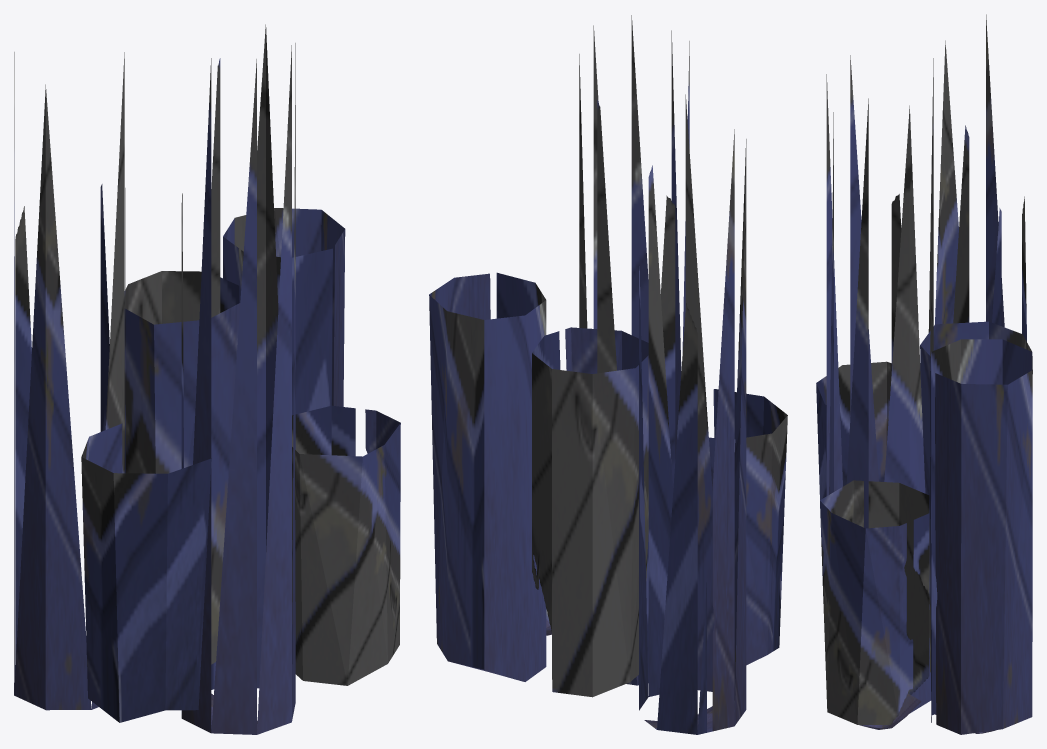
3 renders of one model, left to right at view 1: azimuth 30°, elevation 25°; view 2: azimuth 150°, elevation 25°; view 3: azimuth 270°, elevation 25°, orthographic. The views are drawn at different scales.
Size of the model in its own units: 0.8086 by 1.67 by 0.5172.
